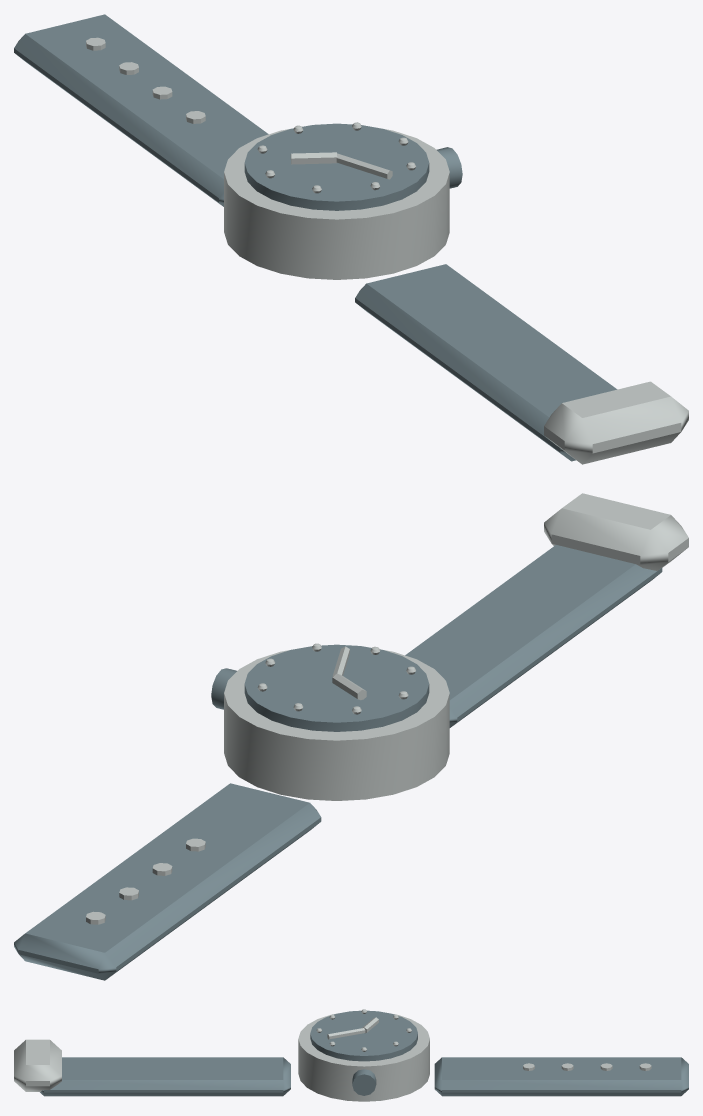
File: watch.glb
3 views of the same model, one above another, from view 1: azimuth 30°, elevation 25°; view 2: azimuth 150°, elevation 25°; view 3: azimuth 270°, elevation 25° (orthographic). The views are drawn at different scales.
Visible parts, largest first — view 1: upper_strap, lower_strap, watch_case, dial, strap_buckle; view 2: lower_strap, upper_strap, watch_case, dial, strap_buckle; view 3: lower_strap, upper_strap, watch_case, dial, strap_buckle, crown, minute_hand.
Boxes of the visible parts, x1,y1,x2,y2 form: upper_strap: (355, 264, 617, 461); lower_strap: (14, 14, 268, 206); watch_case: (224, 129, 449, 279); dial: (244, 123, 429, 210); strap_buckle: (544, 381, 688, 464); lower_strap: (14, 783, 321, 980); upper_strap: (405, 545, 662, 727); watch_case: (224, 650, 449, 800); dial: (244, 644, 429, 731); strap_buckle: (544, 493, 688, 570); lower_strap: (434, 1057, 688, 1096); upper_strap: (40, 1057, 290, 1096); watch_case: (298, 1013, 429, 1101); dial: (310, 1010, 417, 1061); strap_buckle: (14, 1039, 61, 1091); crown: (352, 1069, 376, 1095); minute_hand: (327, 1028, 365, 1039).
Size of the model in its own units: 0.048 by 0.0212 by 0.2255.
